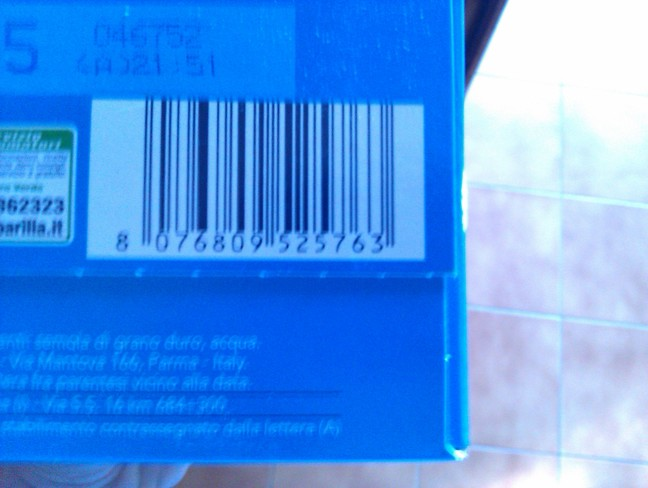detection: (87, 99, 424, 259)
